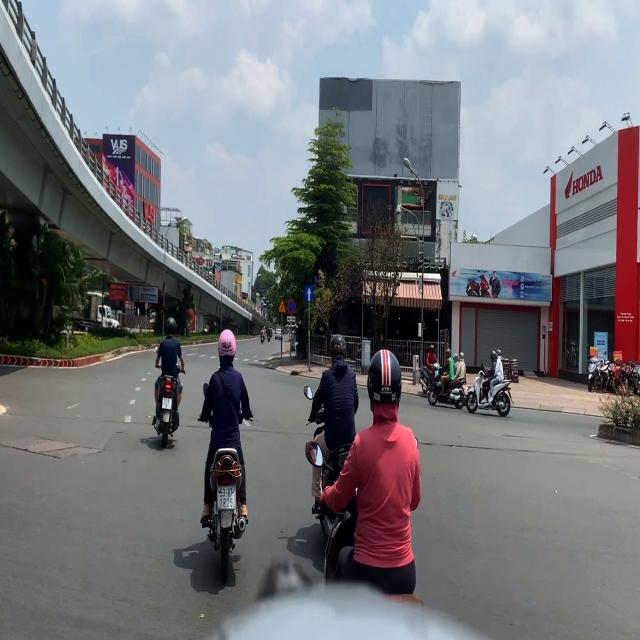Cam do: (287, 299, 296, 315)
Chi dan: (304, 285, 314, 302)
Nguoi di bo cat ngang: (278, 298, 286, 313)
